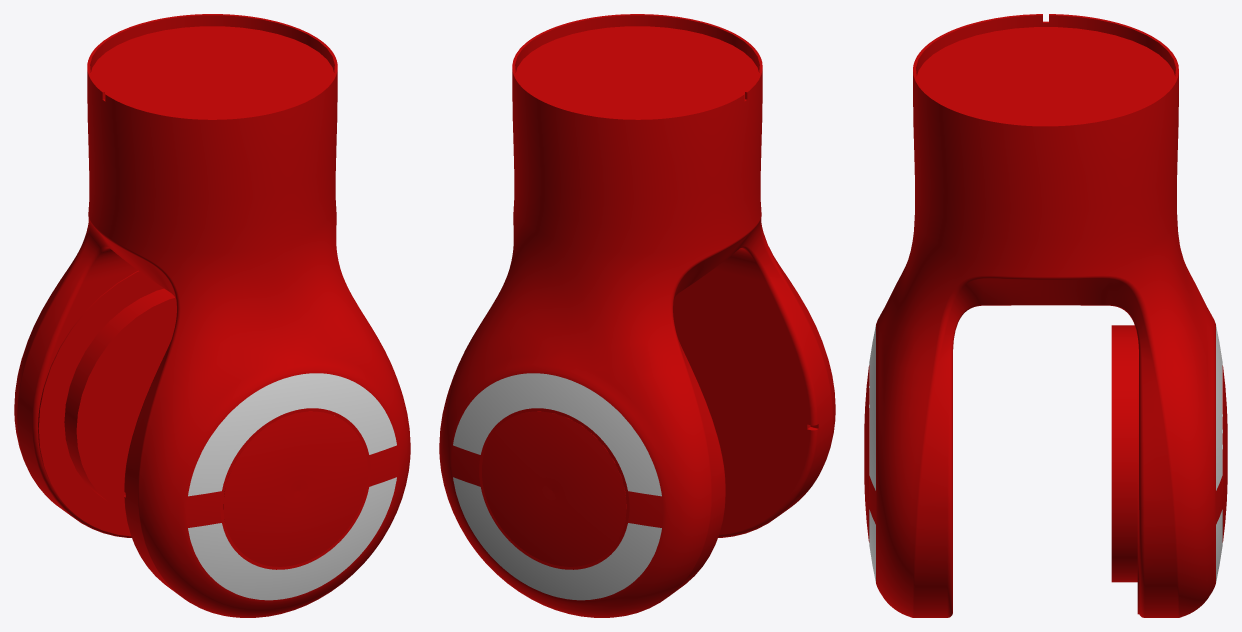
The picture shows the model from 3 angles, left to right: view 1: azimuth 30°, elevation 25°; view 2: azimuth 150°, elevation 25°; view 3: azimuth 270°, elevation 25°; orthographic projection. The views are drawn at different scales.
Visible parts, largest first — view 1: L_Arm_Marvin_M6-S; view 2: L_Arm_Marvin_M6-S; view 3: L_Arm_Marvin_M6-S.
Part boxes in pixels (x1=…): L_Arm_Marvin_M6-S: x1=14, y1=14, x2=410, y2=617; L_Arm_Marvin_M6-S: x1=439, y1=14, x2=835, y2=617; L_Arm_Marvin_M6-S: x1=864, y1=14, x2=1227, y2=617.
Bounding box in the file's own units: 0.1155 × 0.2053 × 0.1271.
